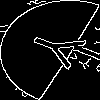Y: (25, 25, 99, 75)
